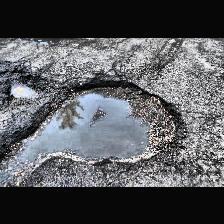pothole: (26, 76, 188, 166), (0, 65, 42, 99), (30, 37, 60, 43)
